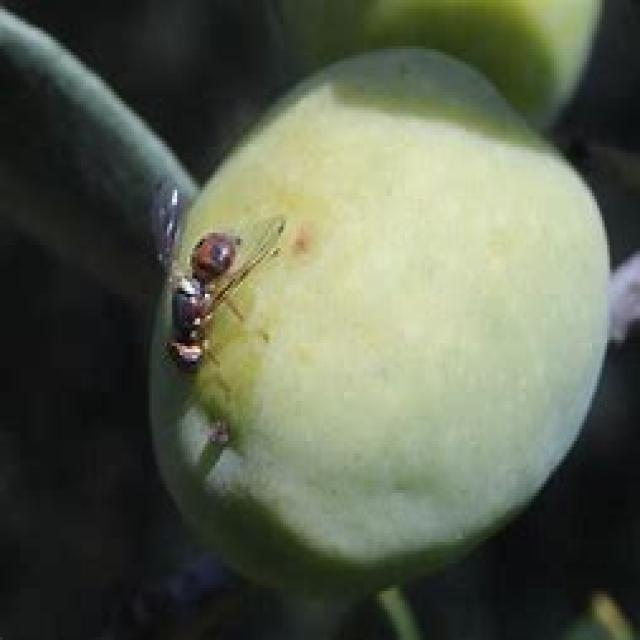Anthracnose: (152, 77, 604, 598)
